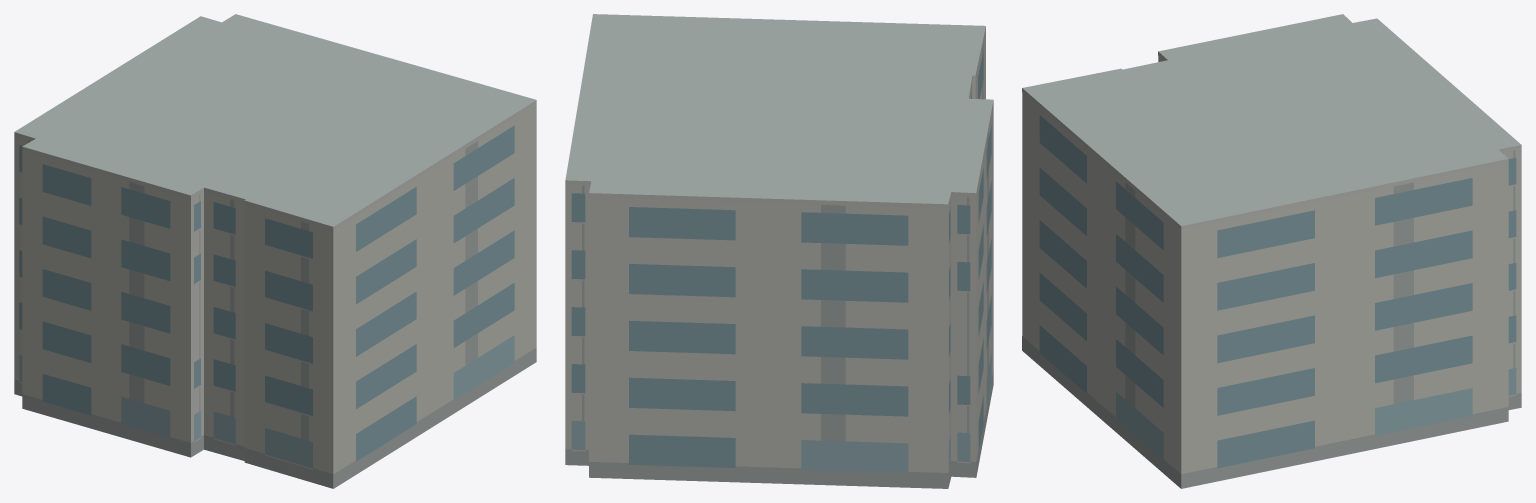
Rendered from survey-upis-32834815.glb.
3 views of the same model, side by side, from view 1: azimuth 30°, elevation 25°; view 2: azimuth 150°, elevation 25°; view 3: azimuth 270°, elevation 25° (orthographic). The views are drawn at different scales.
Parts seen in each view (by area): view 1: survey-upis-32834815.tmp; view 2: survey-upis-32834815.tmp; view 3: survey-upis-32834815.tmp.
Part boxes in pixels (x1,y1,x2,y2): survey-upis-32834815.tmp: [14, 14, 536, 488]; survey-upis-32834815.tmp: [565, 14, 993, 488]; survey-upis-32834815.tmp: [1022, 14, 1521, 488].
Bounding box in the file's own units: 26.42 × 15.25 × 26.29.
